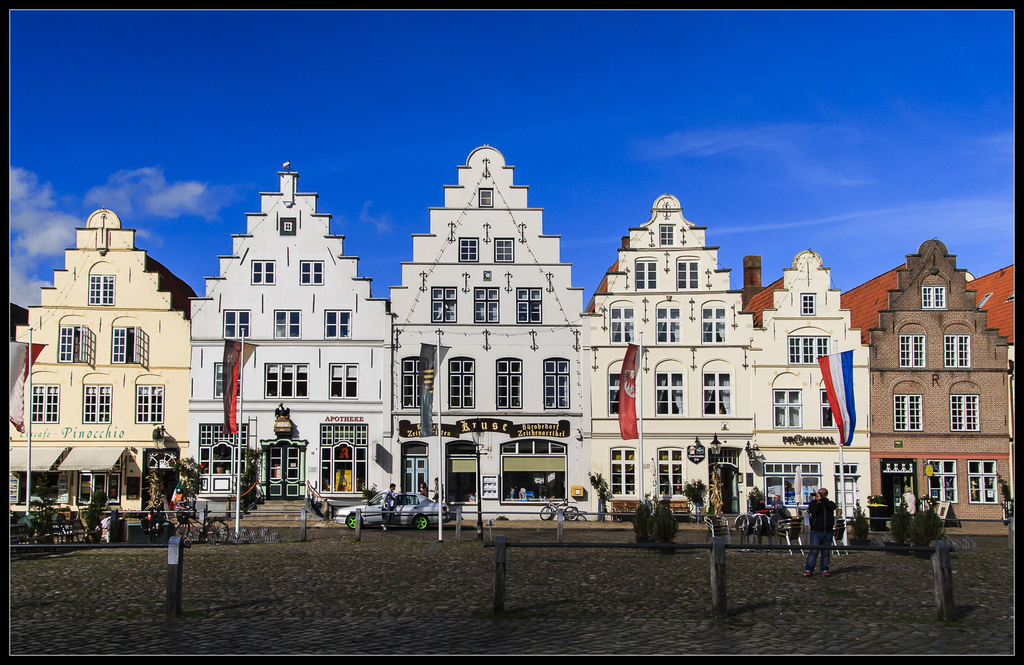Window: (500, 440, 566, 504), (199, 421, 252, 495), (320, 422, 367, 493), (766, 461, 821, 505), (77, 456, 122, 505), (399, 442, 430, 490), (497, 356, 525, 407), (268, 361, 307, 397), (447, 357, 474, 407), (930, 461, 960, 505), (968, 462, 1001, 500), (544, 358, 569, 408), (771, 389, 804, 426), (656, 370, 685, 412), (610, 445, 635, 492), (950, 396, 981, 433), (59, 324, 89, 361), (113, 326, 141, 364), (657, 447, 680, 493), (81, 385, 110, 421), (787, 336, 830, 360), (329, 362, 356, 400), (897, 332, 927, 366), (33, 382, 58, 422), (892, 394, 920, 429), (136, 385, 163, 421), (945, 335, 972, 371), (705, 375, 731, 412), (430, 285, 455, 321), (607, 308, 634, 341), (675, 253, 698, 290), (516, 287, 541, 321), (655, 308, 680, 342), (401, 355, 417, 407), (703, 306, 726, 342), (475, 287, 499, 321), (89, 274, 115, 303), (225, 310, 249, 339), (274, 311, 300, 337), (325, 311, 350, 336), (639, 255, 656, 290), (921, 290, 948, 311), (252, 261, 273, 285), (300, 262, 321, 285), (459, 237, 476, 264), (820, 390, 833, 425), (496, 239, 513, 262), (610, 374, 619, 413), (215, 360, 223, 397), (659, 223, 673, 243), (799, 292, 813, 311), (479, 190, 493, 206), (285, 225, 291, 231)
